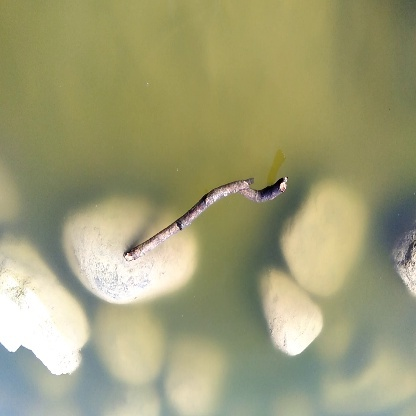branch: (121, 157, 292, 265)
